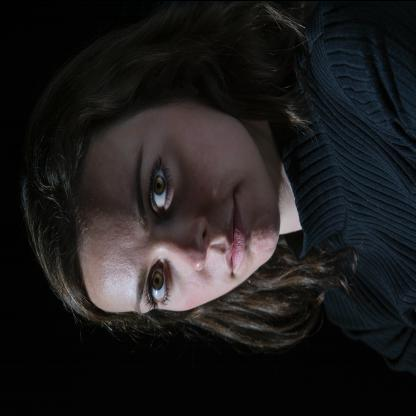Eye: (146, 151, 174, 216), (142, 258, 168, 306)
Mouth: (221, 189, 249, 281)
Nose: (154, 215, 210, 271)
